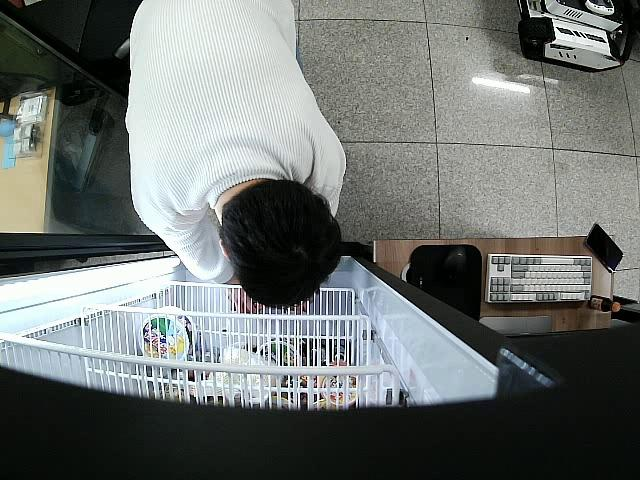00_hand: (226, 281, 256, 316)
